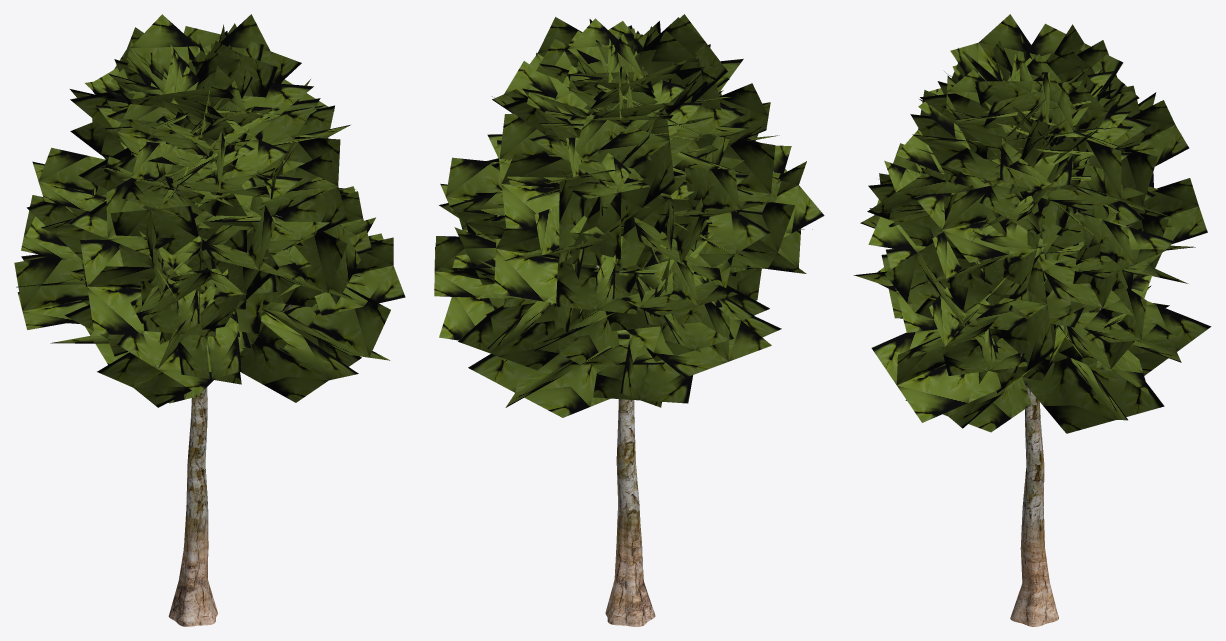
File: SmallTree_04_02.obj
3 views of the same model, side by side, from view 1: azimuth 30°, elevation 25°; view 2: azimuth 150°, elevation 25°; view 3: azimuth 270°, elevation 25° (orthographic). The views are drawn at different scales.
Parts seen in each view (by area): view 1: bark11, beech leaf_t; view 2: bark11, beech leaf_t; view 3: bark11, beech leaf_t.
Part boxes in pixels (x1,y1,x2,y2): bark11: (14,14,405,407); beech leaf_t: (103,195,293,626); bark11: (434,14,824,417); beech leaf_t: (596,265,655,626); bark11: (853,14,1211,433); beech leaf_t: (1010,223,1135,626).
Size of the model in its own units: 65.35 by 115 by 63.79.
Materials: 2 (2 with a texture image).
